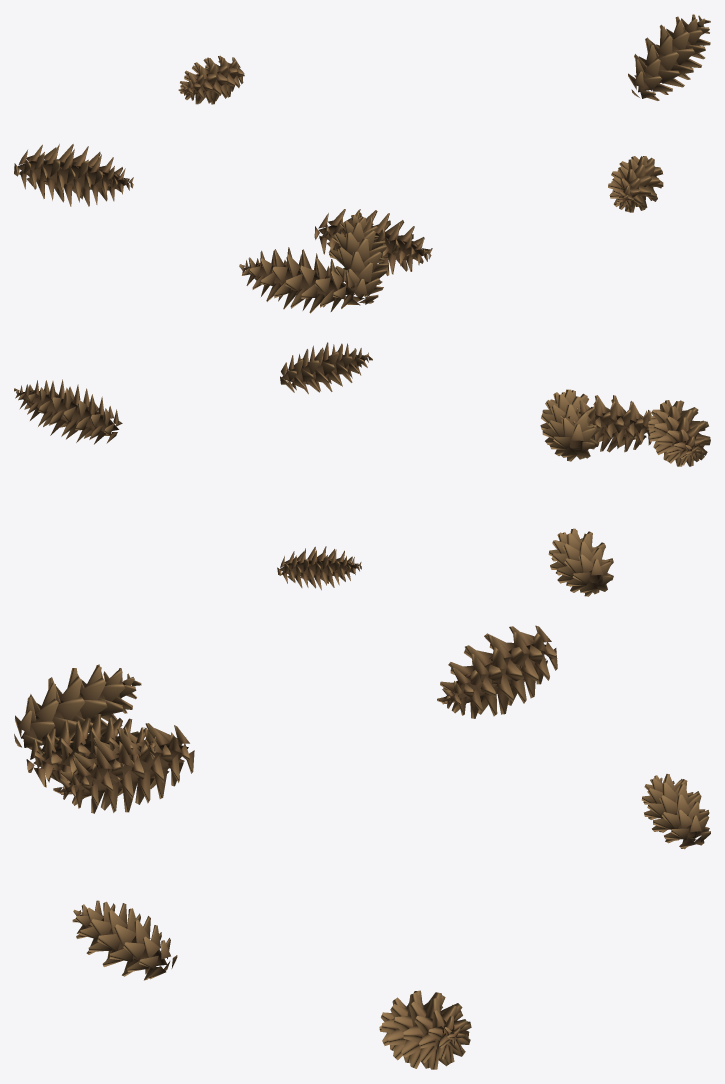
Rendered from pinecones-spruce-a.lod0.glb.
3 views of the same model, one above another, from view 1: azimuth 30°, elevation 25°; view 2: azimuth 150°, elevation 25°; view 3: azimuth 270°, elevation 25° (orthographic). The views are drawn at different scales.
Size of the model in its own units: 0.7715 by 0.0703 by 0.5465.
